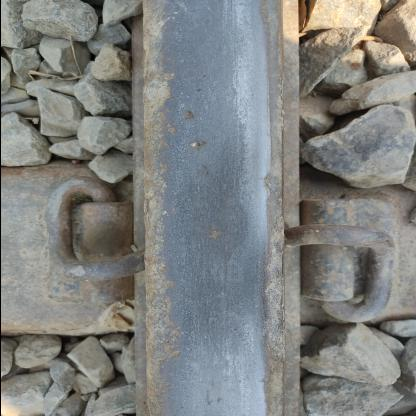Non Defective: (9, 77, 390, 255)
